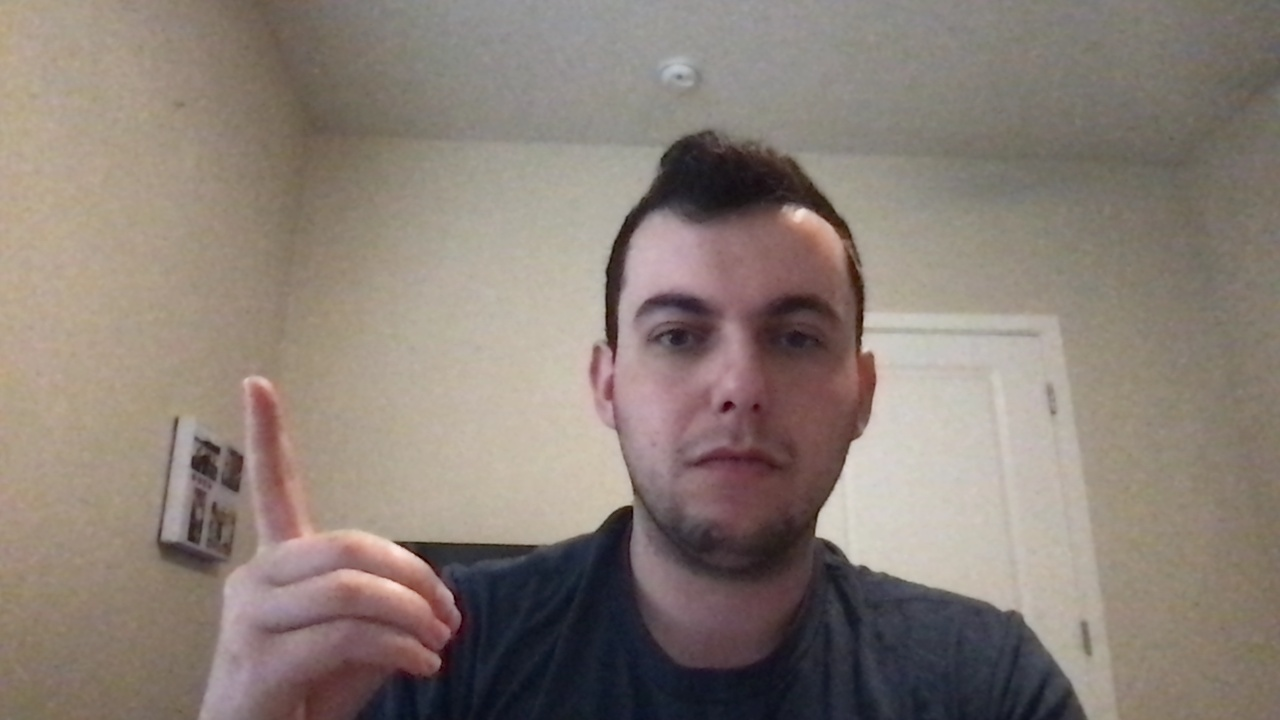d: (119, 364, 484, 715)
